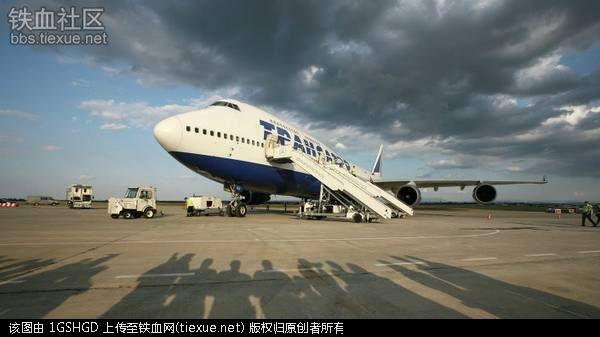airplane: (153, 100, 554, 212)
